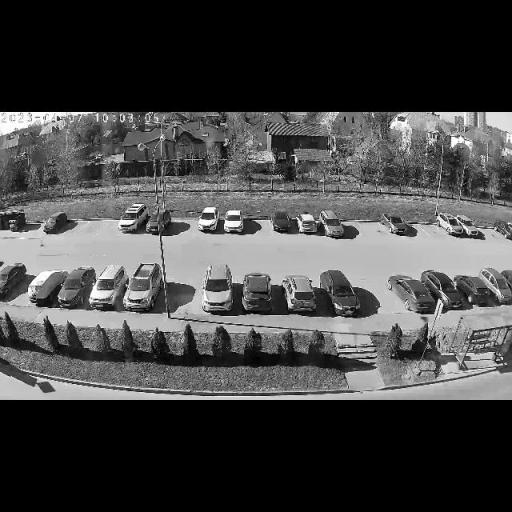busy: (120, 262, 165, 310), (197, 262, 240, 312), (388, 277, 440, 312), (84, 266, 126, 308), (322, 273, 366, 313), (52, 268, 92, 310), (238, 272, 278, 312), (424, 272, 464, 310), (282, 277, 322, 312), (24, 272, 62, 306), (481, 267, 512, 306), (436, 214, 482, 238), (456, 274, 490, 305), (1, 262, 25, 300), (118, 205, 148, 232), (320, 212, 350, 238), (380, 214, 414, 236), (144, 208, 170, 234), (196, 207, 223, 231), (220, 210, 246, 234), (38, 214, 69, 234), (270, 211, 295, 234), (296, 215, 322, 233), (497, 220, 512, 240)
free: (362, 292, 396, 314), (167, 287, 199, 310), (12, 273, 34, 303), (100, 213, 122, 237), (172, 216, 196, 236), (82, 216, 104, 237), (247, 213, 268, 235), (62, 213, 80, 238), (480, 222, 498, 244), (364, 217, 382, 236), (342, 217, 359, 237), (28, 218, 44, 236), (406, 220, 422, 238), (426, 227, 441, 234)
